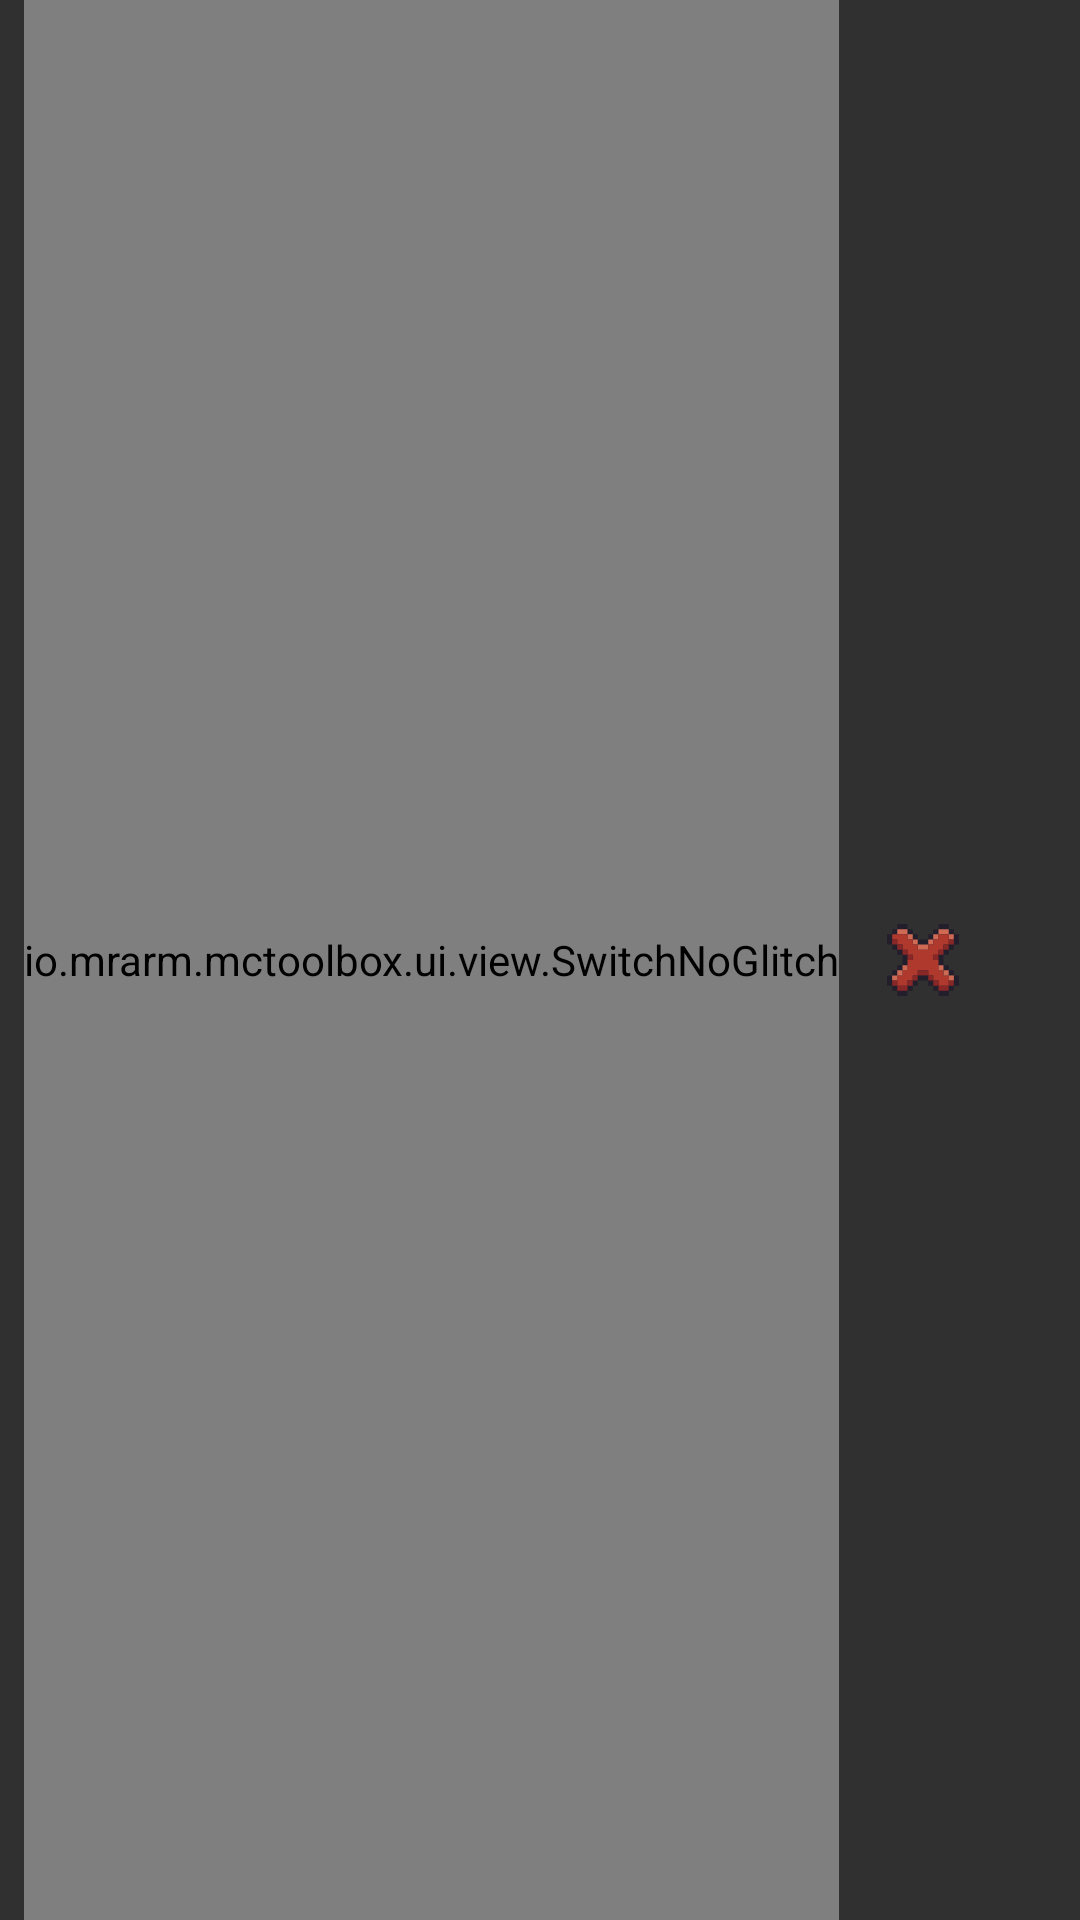

Where to tap for icons on this 1080×1920 app screen, as (x=x, y=y):
cancel: (x=923, y=960)
